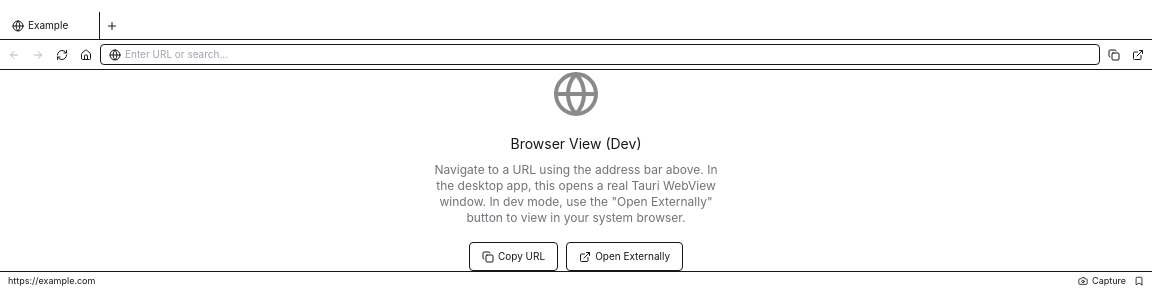
Scenario: BrowserConnector › URL navigation › adds https:// when protocol is missing
Type "example.com" into the field with placeholder "Enter URL or search..." at (608, 54), box [125,47,1091,62]
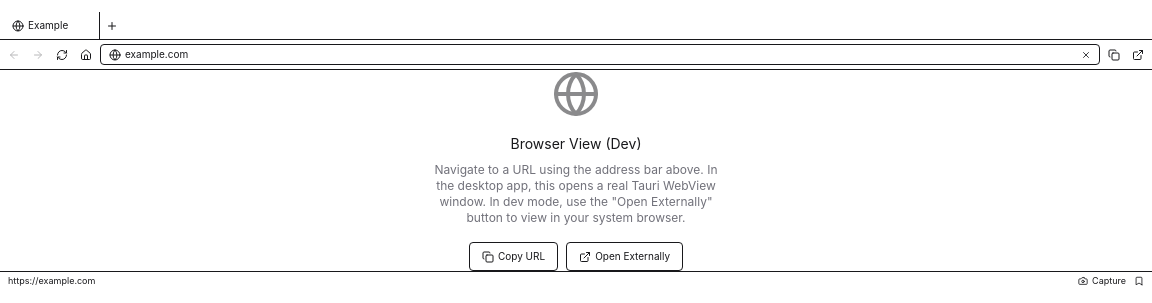
Press Enter in the field with placeholder "Enter URL or search...", box [125,47,1077,62]
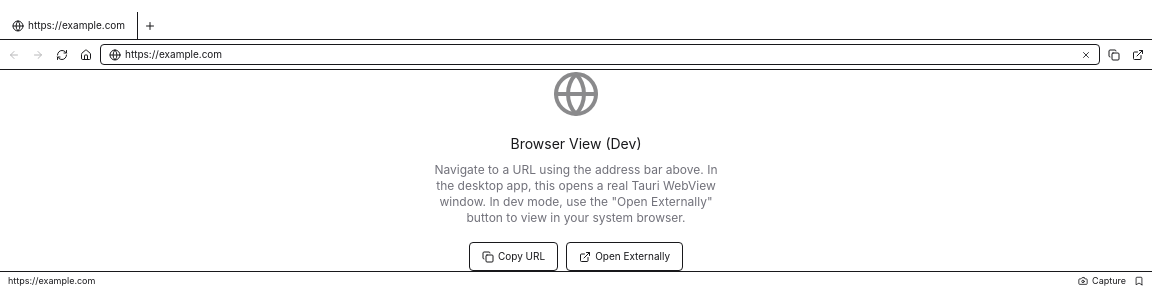
Result: the field with placeholder "Enter URL or search..." holds "https://example.com" at [125,47,1077,62]
